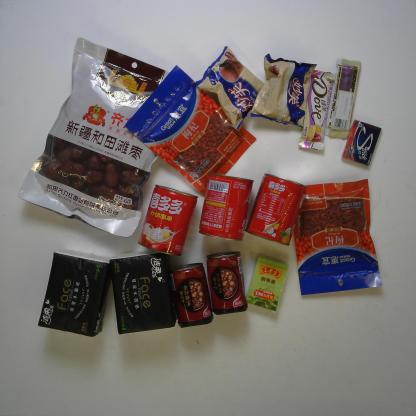Candy: (244, 254, 291, 313)
Canned Food: (135, 184, 200, 259), (244, 172, 307, 246), (197, 172, 256, 241), (168, 262, 214, 329), (206, 249, 250, 317)
Chocolate: (324, 56, 362, 141), (296, 69, 334, 153)
Dessert: (193, 44, 271, 135), (249, 53, 317, 129)
Dried Food: (16, 36, 184, 238)
Dried Fruit: (122, 63, 258, 197), (288, 178, 384, 296)
Gum: (340, 117, 384, 168)
Tissue: (36, 250, 114, 338), (109, 250, 179, 337)
